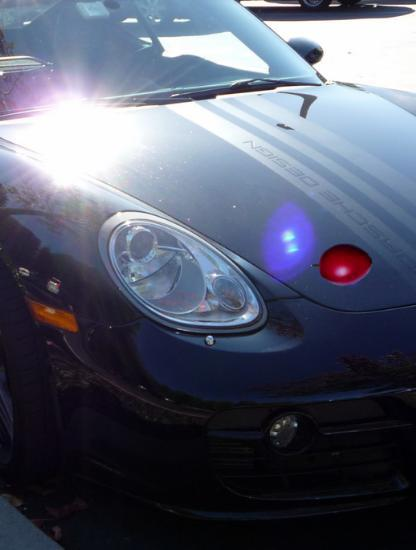Tamarillo: (311, 234, 372, 295)
